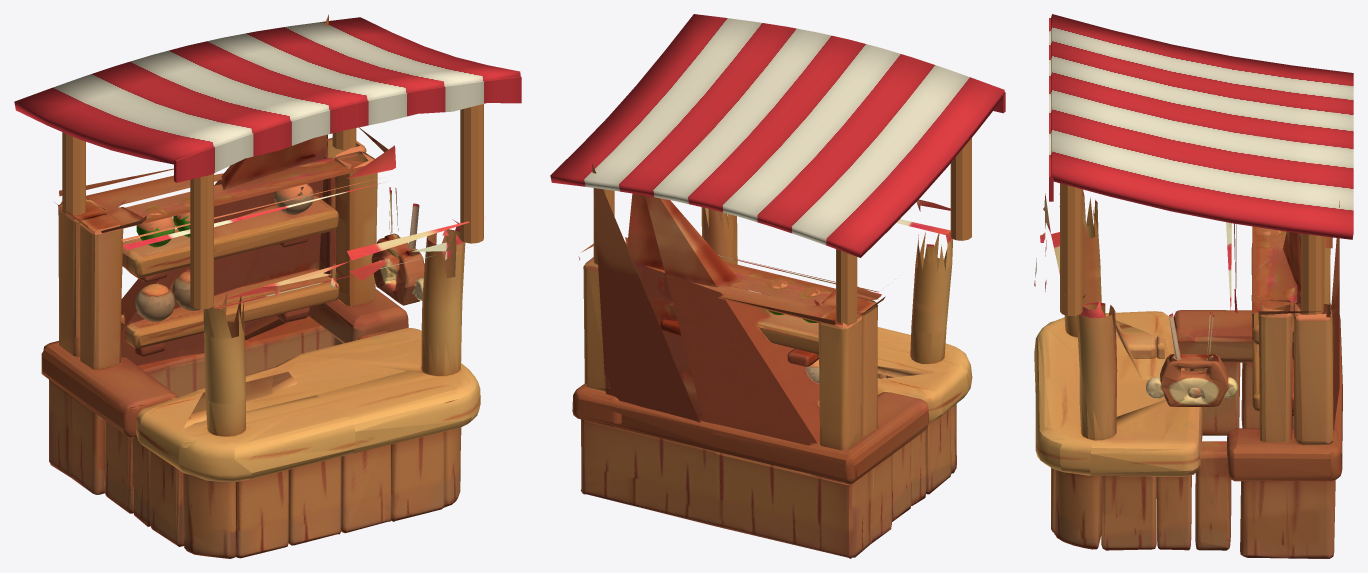
File: la_puesto.glb
3 views of the same model, side by side, from view 1: azimuth 30°, elevation 25°; view 2: azimuth 150°, elevation 25°; view 3: azimuth 270°, elevation 25° (orthographic). The views are drawn at different scales.
Parts seen in each view (by area): view 1: Mesh_0, marquesina, faldon; view 2: Mesh_0, marquesina; view 3: Mesh_0, marquesina, faldon.
Boxes of the visible parts, x1,y1,x2,y2 form: Mesh_0: (41,14,484,558); marquesina: (14,17,520,164); faldon: (174,76,521,182); Mesh_0: (572,138,972,558); marquesina: (550,14,1004,257); Mesh_0: (1034,32,1342,558); marquesina: (1051,14,1353,239); faldon: (1049,18,1053,201).
Size of the model in its own units: 0.9225 by 1.11 by 0.7823.
2 materials, 2 textured.
